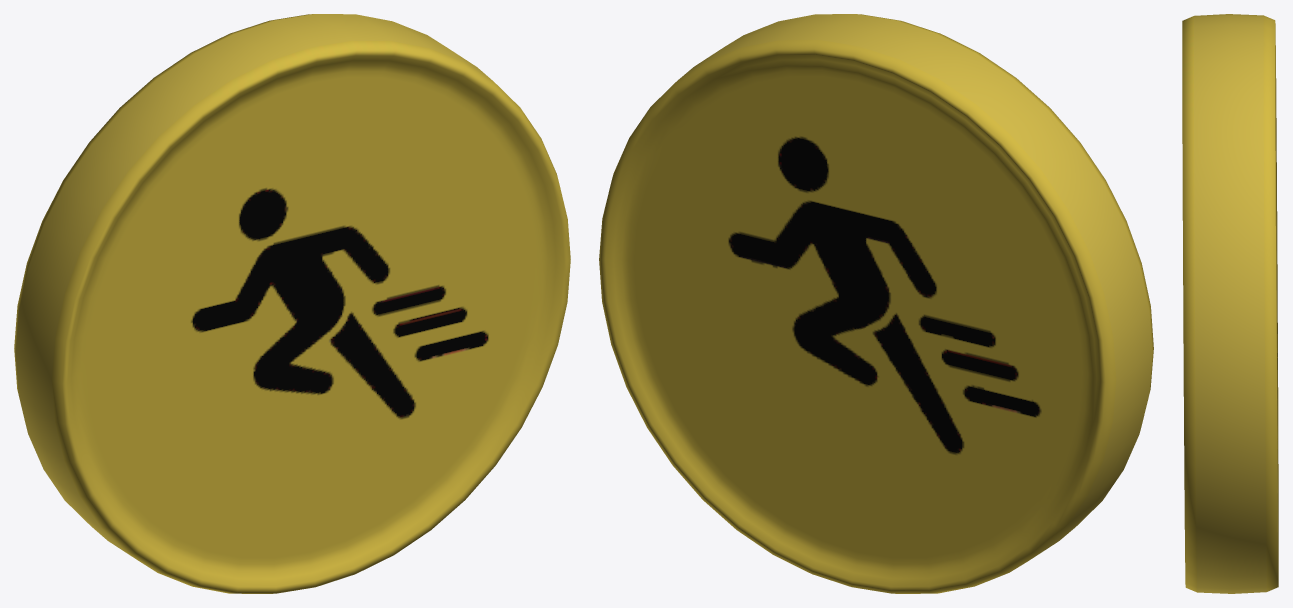
Rendered from coin.glb.
3 views of the same model, side by side, from view 1: azimuth 30°, elevation 25°; view 2: azimuth 150°, elevation 25°; view 3: azimuth 270°, elevation 25° (orthographic). The views are drawn at different scales.
Visible parts, largest first — view 1: Object_3, Object_2; view 2: Object_3, Object_2; view 3: Object_2, Object_3.
Part boxes in pixels (box(x1,y1,x2,y2)): Object_3: box(14, 14, 570, 593); Object_2: box(15, 14, 492, 566); Object_3: box(599, 14, 1153, 593); Object_2: box(678, 14, 1152, 569); Object_2: box(1194, 14, 1266, 593); Object_3: box(1182, 15, 1278, 592).
Bounding box in the file's own units: 1.98 × 1.98 × 0.3284.
1 material, 1 textured.
